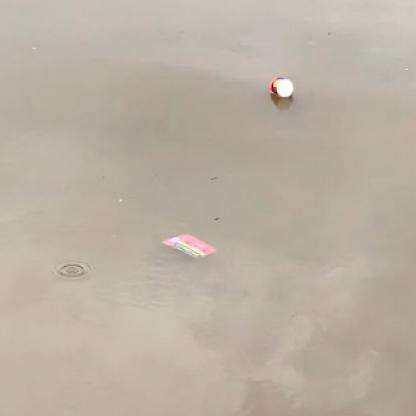Plastic: (264, 71, 298, 104)
Trash: (160, 228, 218, 267)
